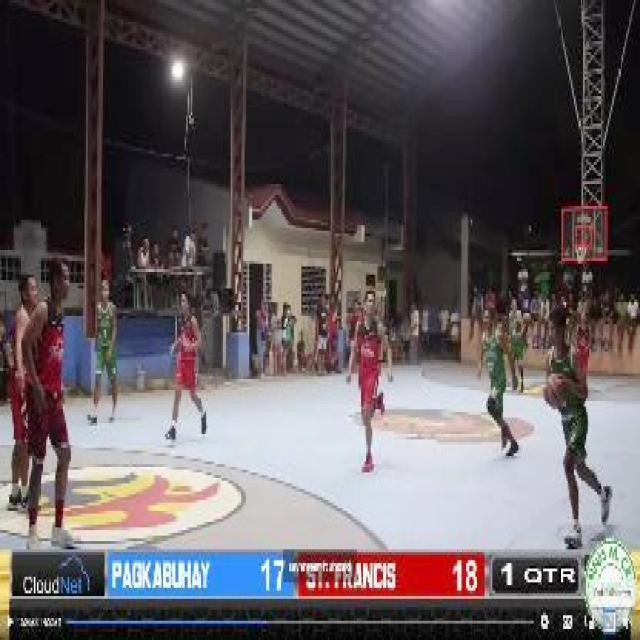ball: (541, 371, 564, 415)
hoop: (571, 243, 590, 251)
